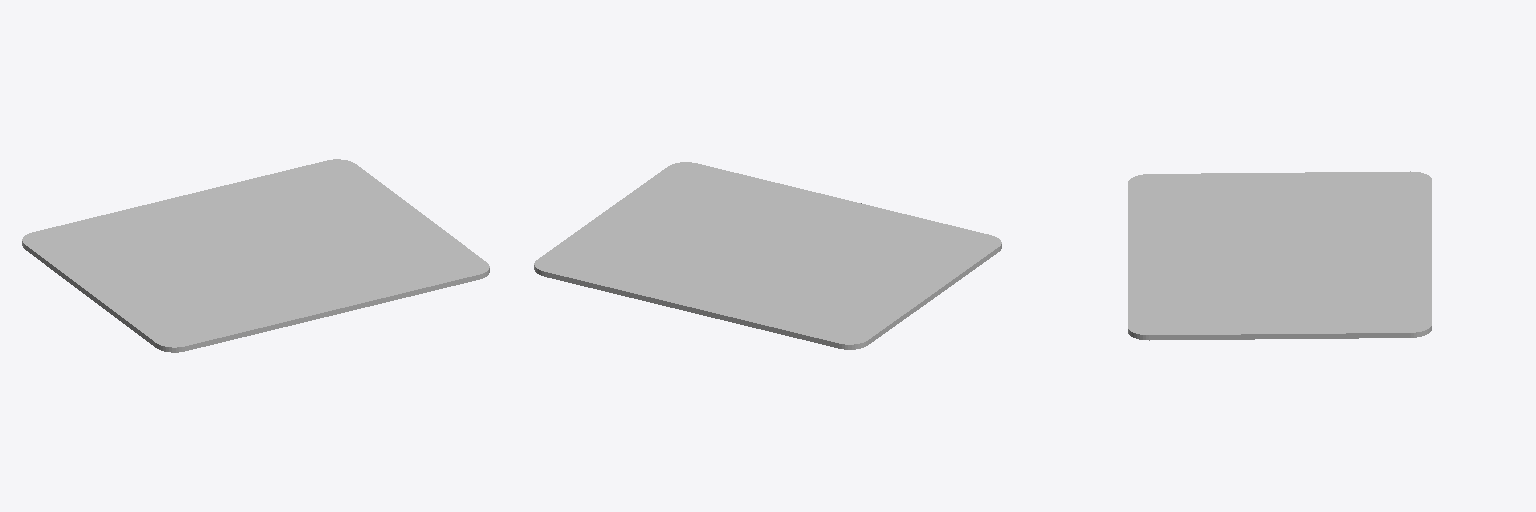
File: mousepadChido.obj
3 renders of one model, left to right at view 1: azimuth 30°, elevation 25°; view 2: azimuth 150°, elevation 25°; view 3: azimuth 270°, elevation 25°, orthographic.
Visible parts, largest first — view 1: uploads_files_95771_RAZER_Goliathus_Omega_Mouse_Pad.001, uploads_files_95771_RAZER_Goliathus_Omega_Mouse_Pad; view 2: uploads_files_95771_RAZER_Goliathus_Omega_Mouse_Pad.001, uploads_files_95771_RAZER_Goliathus_Omega_Mouse_Pad; view 3: uploads_files_95771_RAZER_Goliathus_Omega_Mouse_Pad.001, uploads_files_95771_RAZER_Goliathus_Omega_Mouse_Pad.
Part boxes in pixels (x1,y1,x2,y2): uploads_files_95771_RAZER_Goliathus_Omega_Mouse_Pad.001: (26, 164, 485, 342); uploads_files_95771_RAZER_Goliathus_Omega_Mouse_Pad: (22, 159, 489, 352); uploads_files_95771_RAZER_Goliathus_Omega_Mouse_Pad.001: (538, 167, 997, 339); uploads_files_95771_RAZER_Goliathus_Omega_Mouse_Pad: (534, 162, 1001, 349); uploads_files_95771_RAZER_Goliathus_Omega_Mouse_Pad.001: (1149, 171, 1410, 334); uploads_files_95771_RAZER_Goliathus_Omega_Mouse_Pad: (1128, 172, 1431, 340).
Size of the model in its own units: 27 by 0.6274 by 21.5.